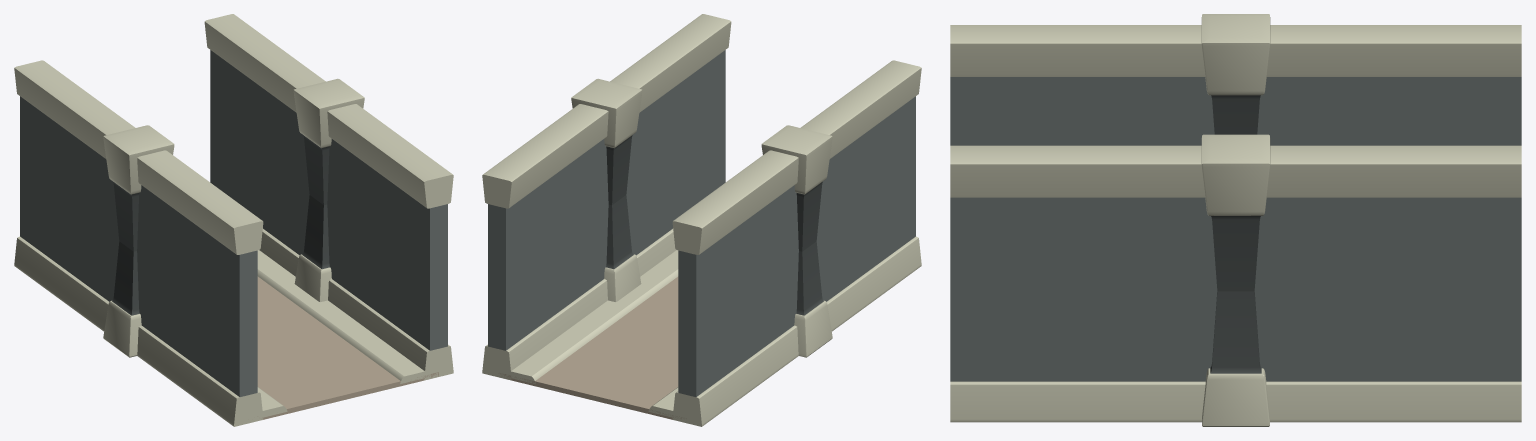
The model's file is HallMedx2.fbx.
3 views of the same model, side by side, from view 1: azimuth 30°, elevation 25°; view 2: azimuth 150°, elevation 25°; view 3: azimuth 270°, elevation 25° (orthographic). The views are drawn at different scales.
Visible parts, largest first — view 1: Pillar.002; view 2: Pillar.002; view 3: Pillar.002.
Boxes of the visible parts, bbox=[...] form: Pillar.002: bbox=[14, 14, 453, 426]; Pillar.002: bbox=[482, 14, 921, 426]; Pillar.002: bbox=[950, 14, 1521, 426].
Bounding box in the file's own units: 496 × 410 × 800.
